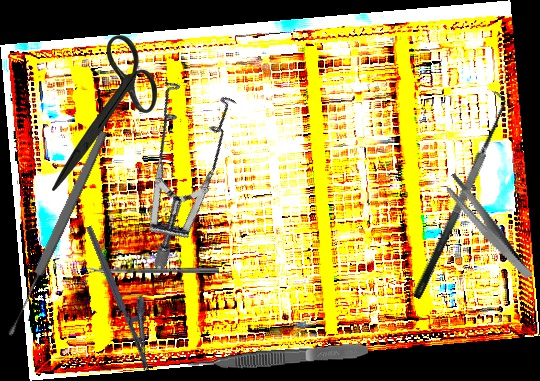Dressing Forceps: (441, 160, 534, 294)
Iris Scissors: (52, 35, 157, 191)
Needle Holder: (85, 217, 170, 372)
Spatula Surgical: (395, 89, 519, 301)
Speculum: (68, 56, 284, 272)
Surgical Spoon: (3, 128, 110, 339), (86, 267, 219, 273)
Tissue Forceps: (187, 341, 369, 373)
